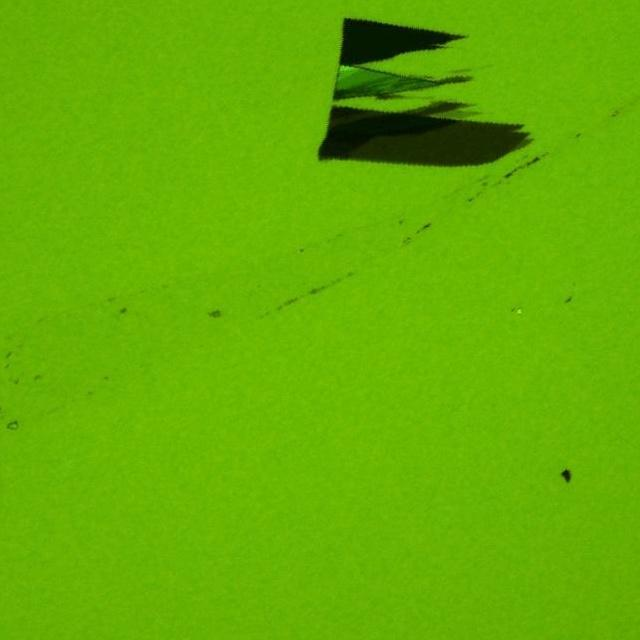monolayer-eWW4: (431, 110, 478, 120)
